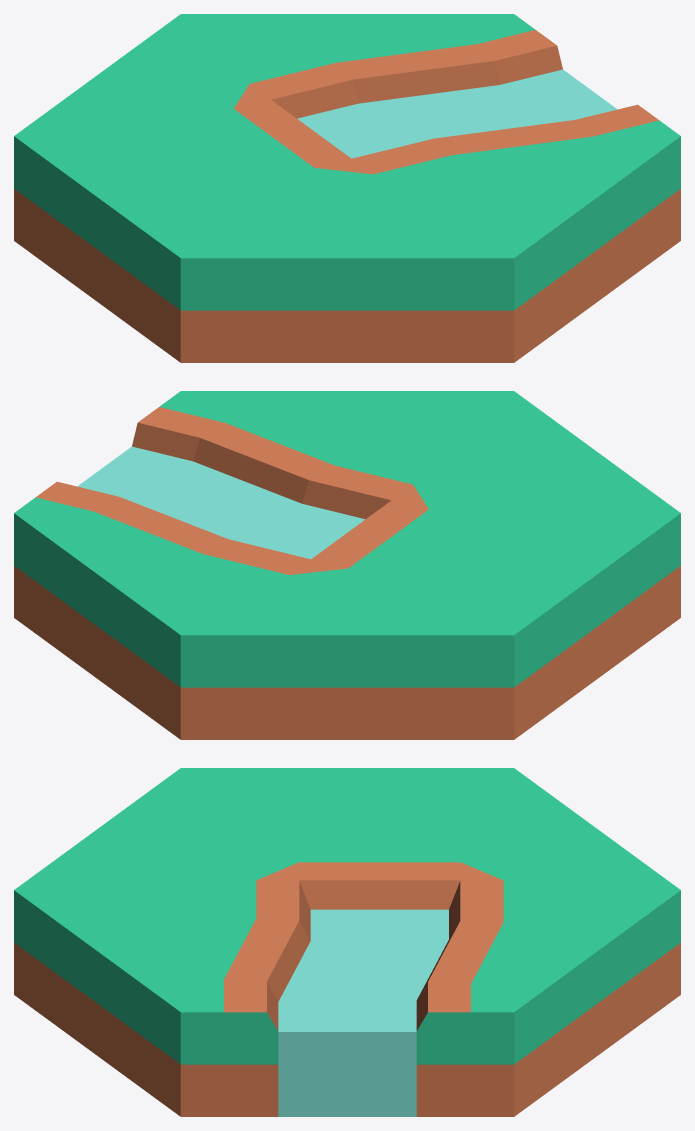
The model's file is river_end.dae.
The picture shows the model from 3 angles, top to bottom: view 1: azimuth 30°, elevation 25°; view 2: azimuth 150°, elevation 25°; view 3: azimuth 270°, elevation 25°; orthographic projection.
Parts seen in each view (by area): view 1: river_end; view 2: river_end; view 3: river_end.
Part boxes in pixels (x1=…): river_end: x1=14, y1=14, x2=680, y2=362; river_end: x1=14, y1=391, x2=680, y2=739; river_end: x1=14, y1=768, x2=680, y2=1116.
Size of the model in its own units: 1 by 0.2 by 1.15.
